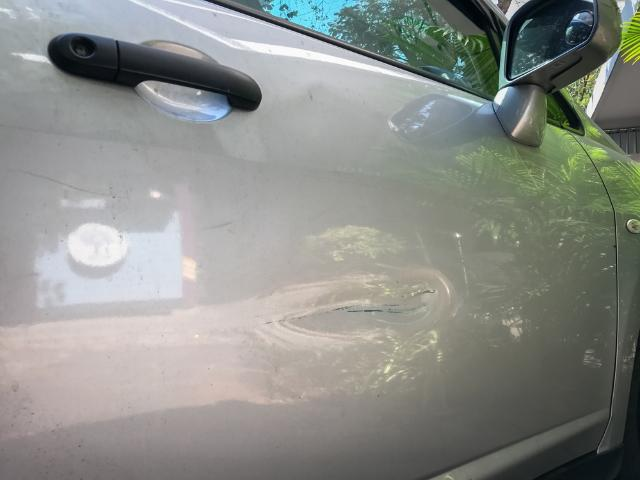dent: (275, 268, 451, 339)
